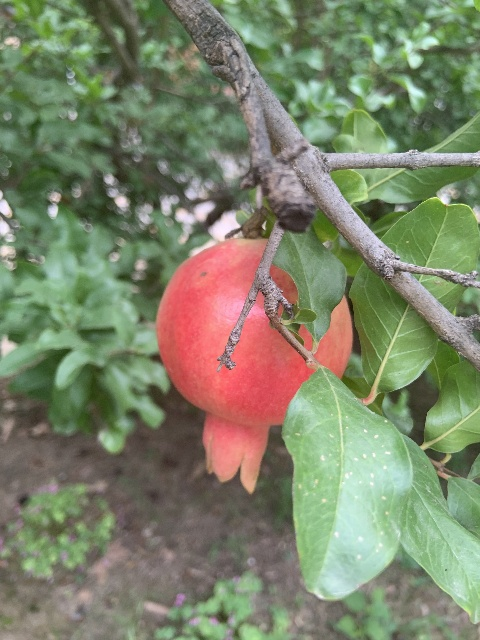ripe: (155, 237, 352, 493)
